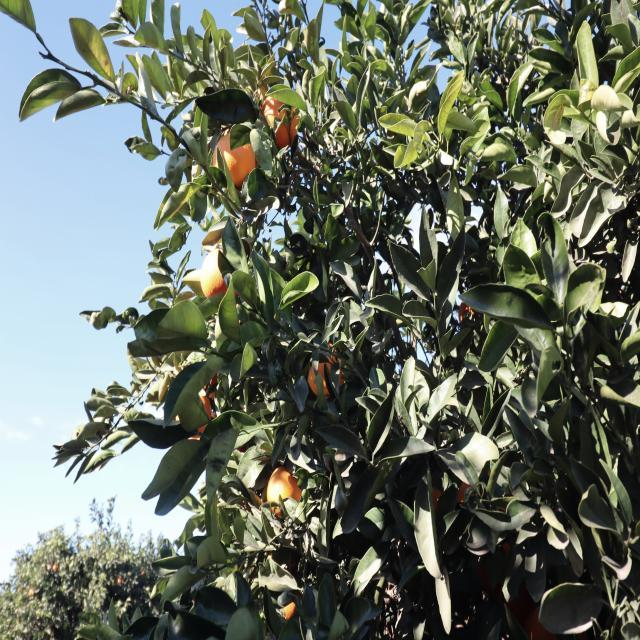Jeruk Sudah Matang: (205, 126, 262, 204), (255, 89, 308, 153), (304, 342, 346, 402), (265, 466, 305, 522), (175, 391, 221, 438), (200, 247, 238, 302), (282, 584, 314, 626), (460, 290, 482, 344)
